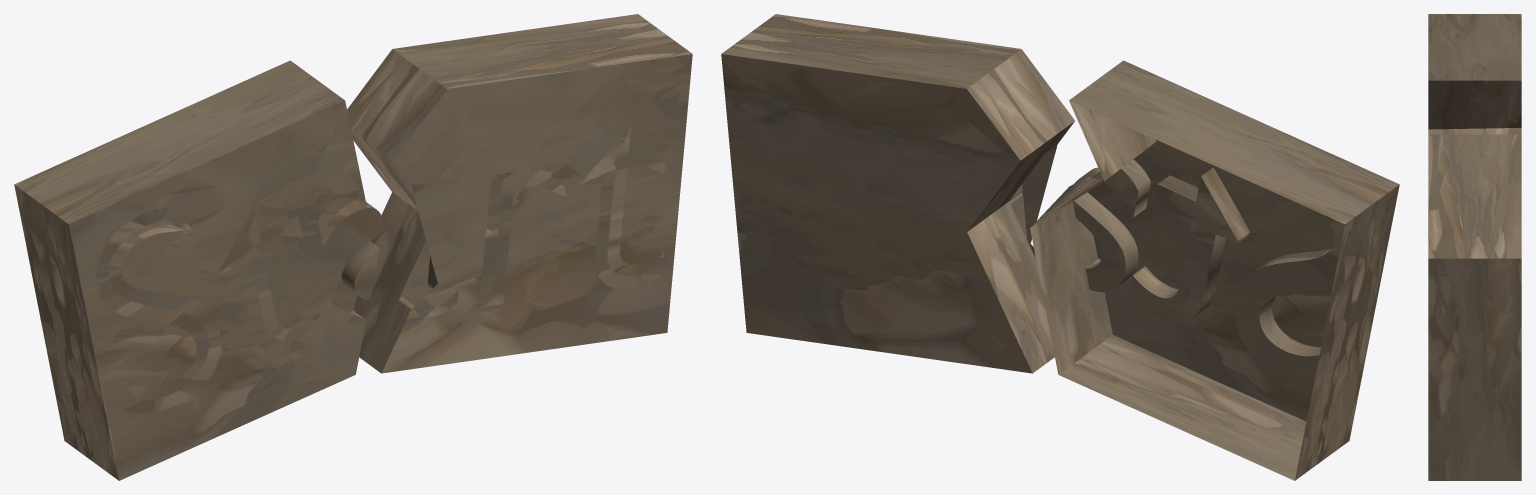
File: Start (Broken).fbx
3 views of the same model, side by side, from view 1: azimuth 30°, elevation 25°; view 2: azimuth 150°, elevation 25°; view 3: azimuth 270°, elevation 25° (orthographic). The views are drawn at different scales.
Parts seen in each view (by area): view 1: Cube.001; view 2: Cube.001; view 3: Cube.001.
Part boxes in pixels (left/top/right/bottom): Cube.001: left=14, top=14, right=692, bottom=480; Cube.001: left=721, top=14, right=1399, bottom=480; Cube.001: left=1428, top=14, right=1521, bottom=480.
Size of the model in its own units: 225 by 112 by 34.14.
